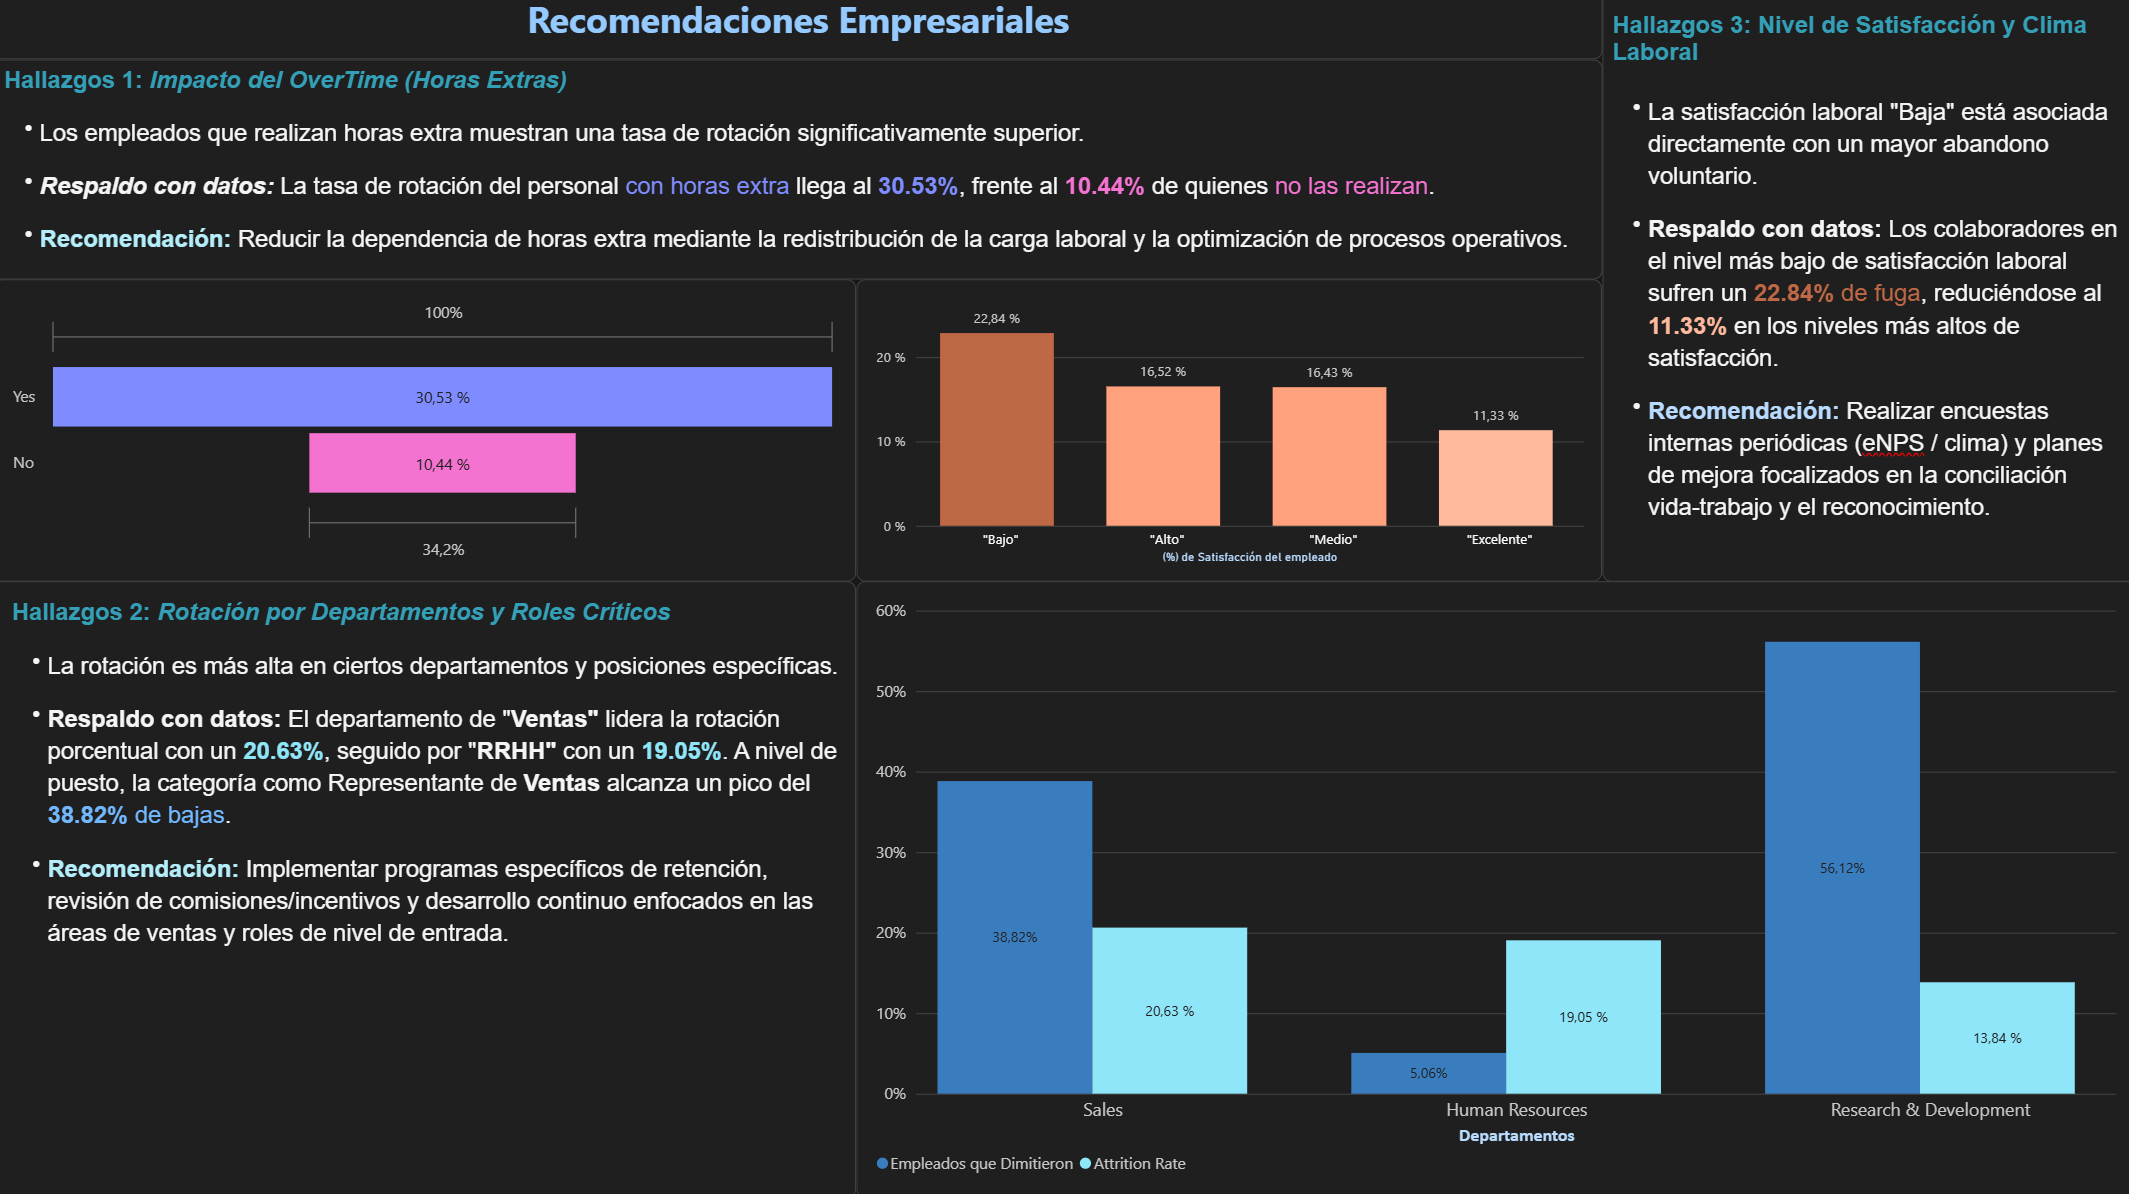

This screenshot's page, from the dashboard's own definition file:
{"tool":"powerbi","page":{"name":"Insights y Recomendaciones","canvas":[1920,1080],"ordinal":5},"visuals":[{"type":"textbox","box":[0,0,1442.3,59],"z":0},{"type":"textbox","box":[0,58.7,1442.2,197.1],"z":1000},{"type":"textbox","box":[0,527,773.4,553.1],"z":2000},{"type":"textbox","box":[1442.3,0,478.1,527],"z":3000},{"type":"clusteredColumnChart","fields":{"Category":["Employees.Department"],"Y":["Employees.Employees Left","Employees.Attrition Rate"]},"box":[773.4,527,1147,553.1],"z":4000},{"type":"funnel","fields":{"Category":["Employees.OverTime"],"Y":["Employees.Attrition Rate"]},"box":[0,255.5,773.4,271.4],"z":5000},{"type":"clusteredColumnChart","title":"(%) Rate de Satifacción","fields":{"Category":["Employees.Satisfacción","Employees.EnvironmentSatisfaction"],"Y":["Employees.Attrition Rate"]},"box":[773.4,255.5,668.9,271.4],"z":6000}]}

Visuals, with their boxes in screenshot pixels (x1, y1, x2, y2), scaled from the page's 1920x1080 canvas onto the 2129x1194 screenshot:
textbox: 0 0 1599 65
textbox: 0 65 1599 283
textbox: 0 583 858 1193
textbox: 1599 0 2128 583
clusteredColumnChart - Employees.Department x Employees.Employees Left: 858 583 2128 1193
funnel - Employees.OverTime x Employees.Attrition Rate: 0 282 858 583
"(%) Rate de Satifacción" clusteredColumnChart: 858 282 1599 583
